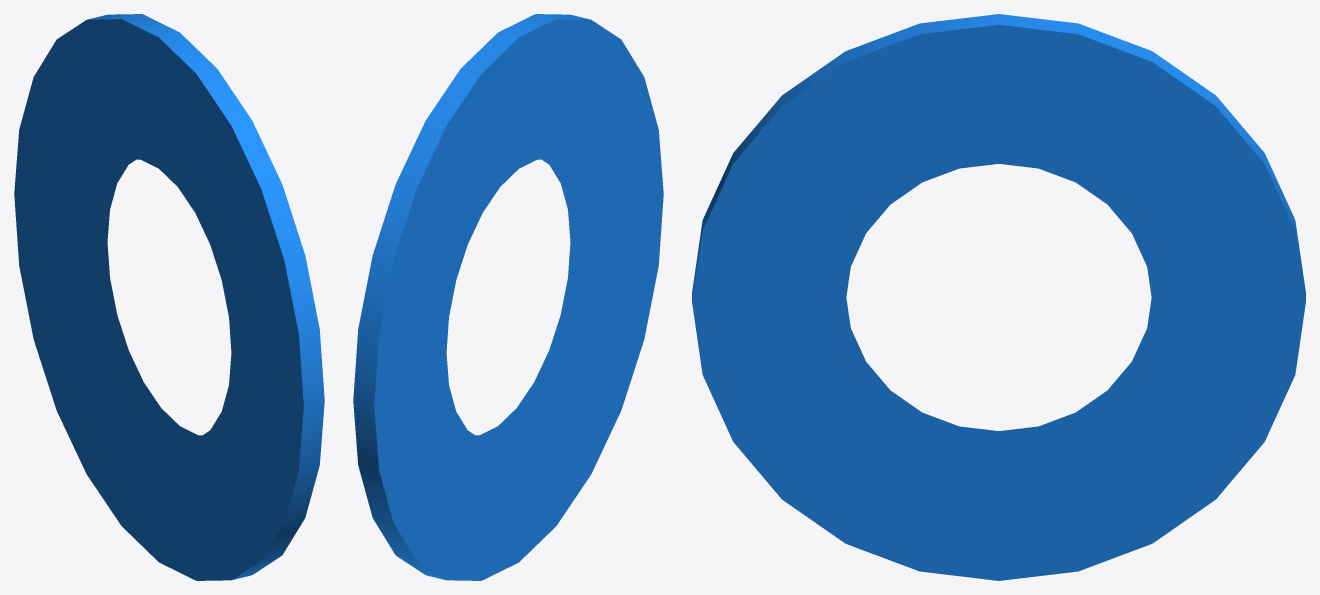
Rendered from original-20.obj.
The picture shows the model from 3 angles, left to right: view 1: azimuth 30°, elevation 25°; view 2: azimuth 150°, elevation 25°; view 3: azimuth 270°, elevation 25°; orthographic projection. The views are drawn at different scales.
Parts seen in each view (by area): view 1: #ID17; view 2: #ID17; view 3: #ID17.
Part boxes in pixels (x1,y1,x2,y2): #ID17: [14, 14, 324, 580]; #ID17: [353, 14, 663, 580]; #ID17: [692, 14, 1305, 580].
Size of the model in its own units: 0.00245 by 0.0588 by 0.0588.
